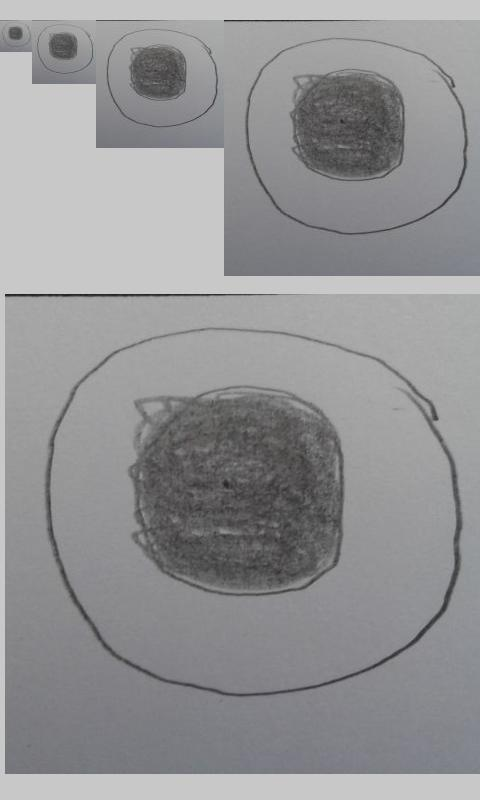radio_button: (43, 323, 465, 700), (244, 36, 470, 237), (105, 28, 219, 128), (36, 23, 94, 75), (1, 21, 31, 48)
